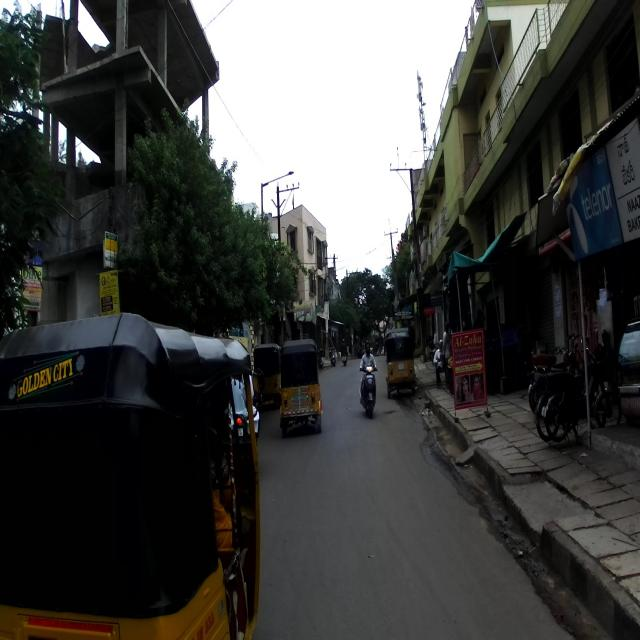autorickshaw: (0, 312, 264, 639)
motorcycle: (541, 351, 622, 444), (534, 337, 594, 442), (531, 333, 583, 415)
scooter: (356, 358, 382, 419)
